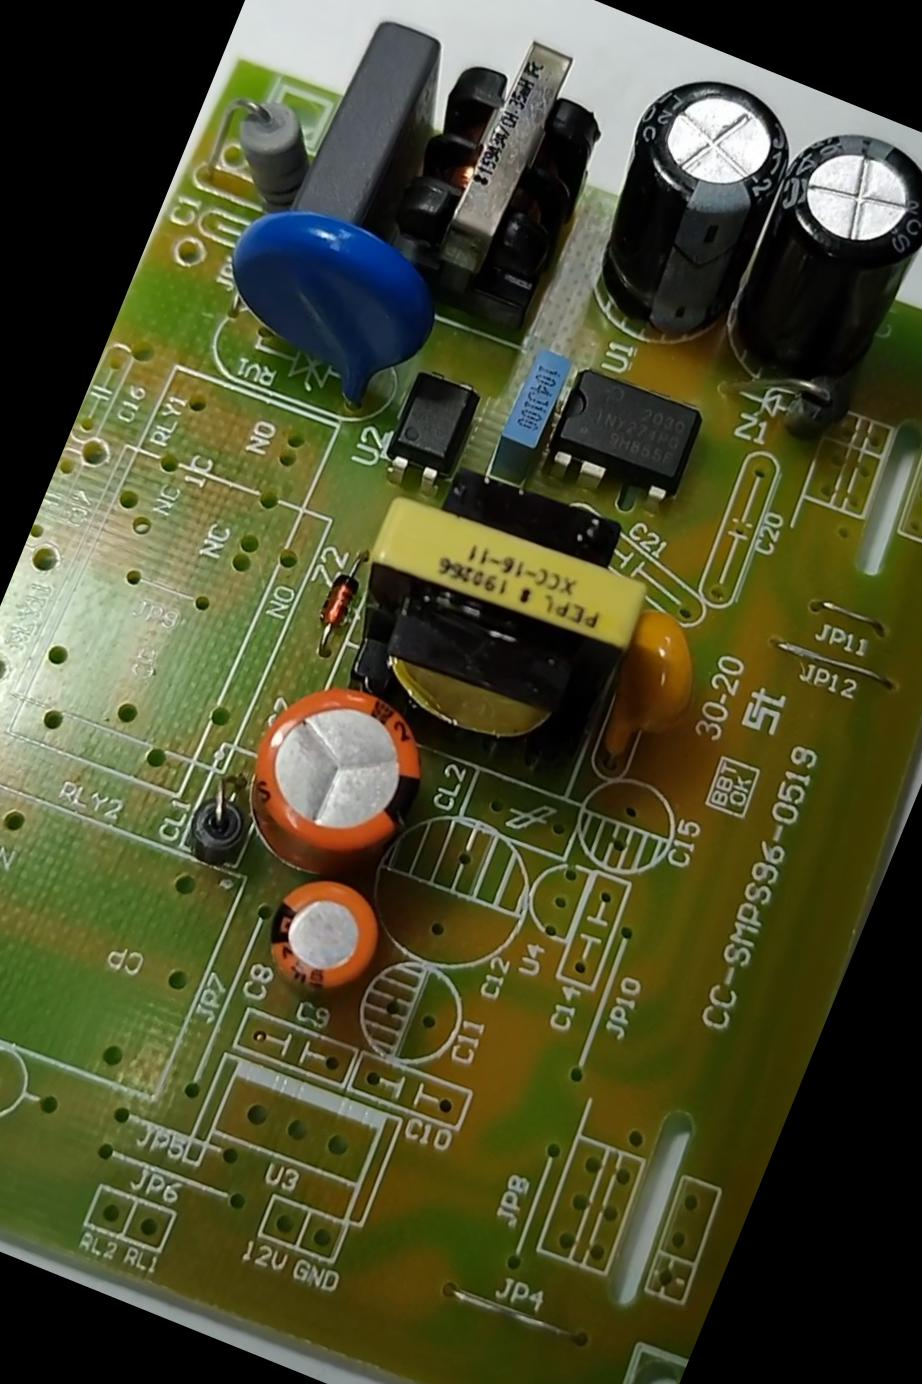Cap1: (202, 646, 468, 904)
Cap2: (227, 847, 413, 1029)
Cap3: (560, 42, 820, 376)
Cap4: (694, 95, 921, 440)
MOSFET: (521, 350, 724, 524)
Mov: (170, 165, 469, 435)
Resistor: (191, 61, 335, 215)
Transformer: (299, 436, 693, 807), (351, 0, 638, 353)
